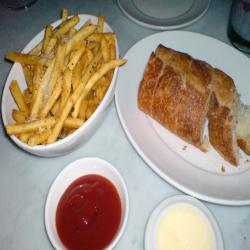bread: (141, 44, 250, 166)
fries: (12, 17, 113, 137)
ketchup: (48, 172, 123, 250)
